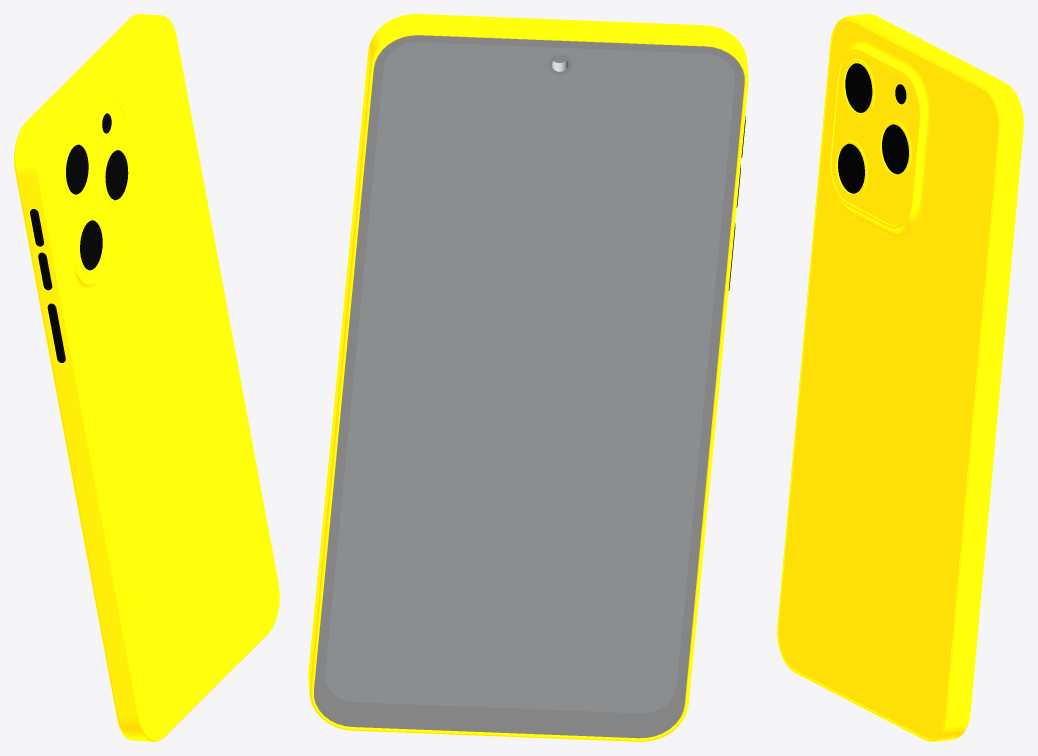
3 views of the same model, side by side, from view 1: azimuth 30°, elevation 25°; view 2: azimuth 150°, elevation 25°; view 3: azimuth 270°, elevation 25° (orthographic). The views are drawn at different scales.
Parts seen in each view (by area): view 1: Phone-Mat.1 (×2), Lens Covers, Button 1; view 2: Display-Mat.1, Display, Phone-Mat.1; view 3: Phone-Mat.1 (×2), Lens Covers.
Part boxes in pixels (x1,y1,x2,y2): Phone-Mat.1 (×2): [14, 14, 279, 741]; Lens Covers: [66, 144, 128, 270]; Button 1: [47, 303, 65, 362]; Display-Mat.1: [325, 42, 734, 713]; Display: [314, 35, 744, 738]; Phone-Mat.1: [308, 14, 748, 741]; Phone-Mat.1 (×2): [777, 14, 1023, 741]; Lens Covers: [838, 63, 908, 193].
Size of what is drawn, in the model's own units: 0.0886 by 0.1717 by 0.0607.
